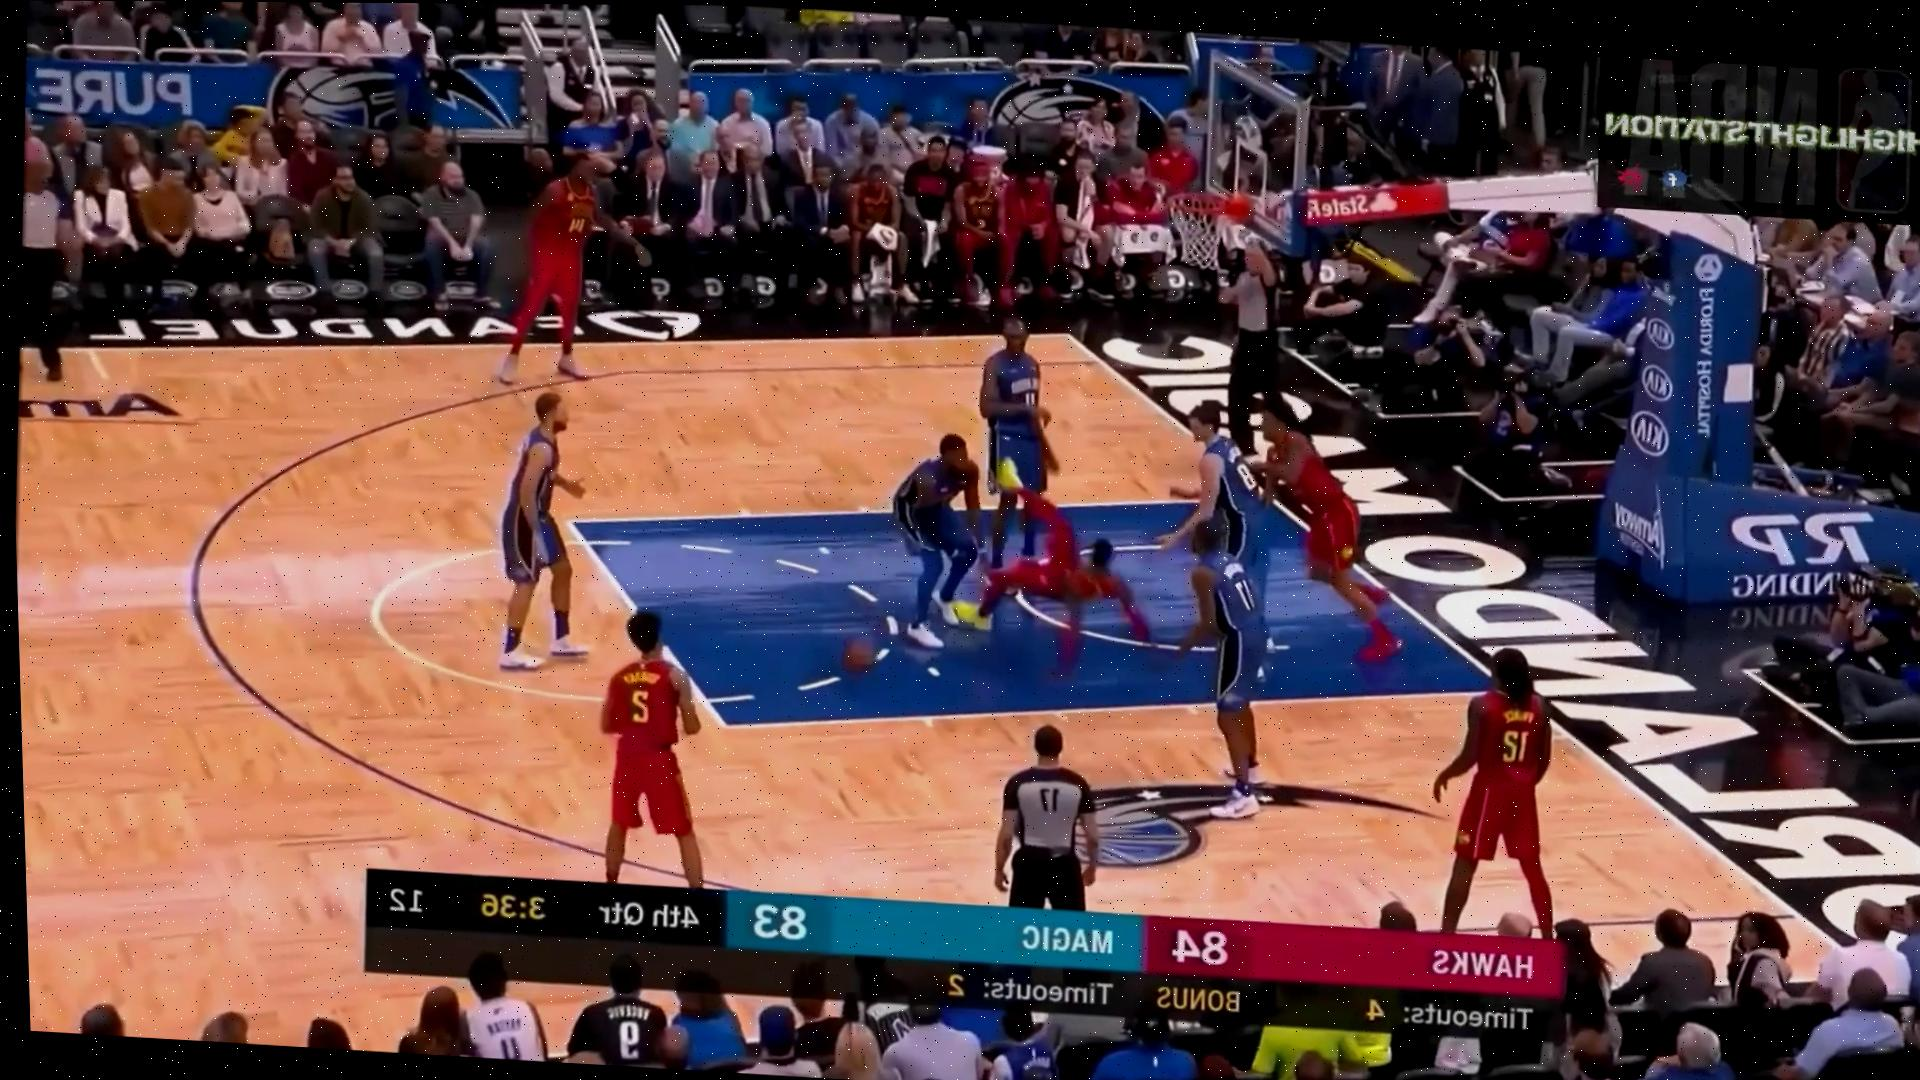foul: (863, 428, 1150, 675)
